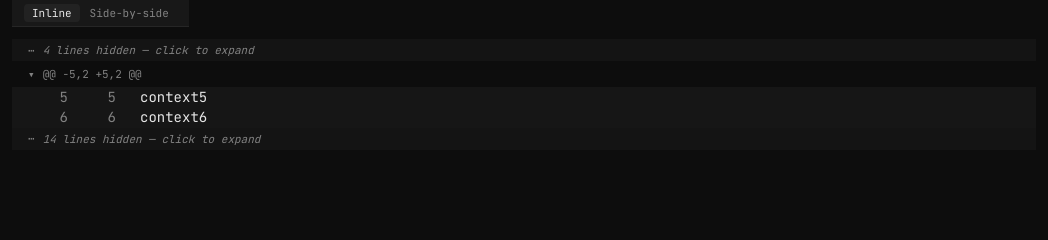
Scenario: diff-view-shortcuts-expand-context: inline gap affordance › 1.T3 — clicking a gap row expands it in place to real source lines; re-click collapses
The image size is (1048, 240).
Expected: the text "4 lines hidden — click to expand" is shown, [43, 43, 254, 57]
Expected: the text "14 lines hidden — click to expand" is shown, [43, 132, 260, 146]
Note: Expand gap-start (lines 1..4) — 4 plain context rows, no +/- markers.
Click the button with aria-label "Expand 4 hidden lines".
click(148, 50)  # box [12, 39, 1036, 61]
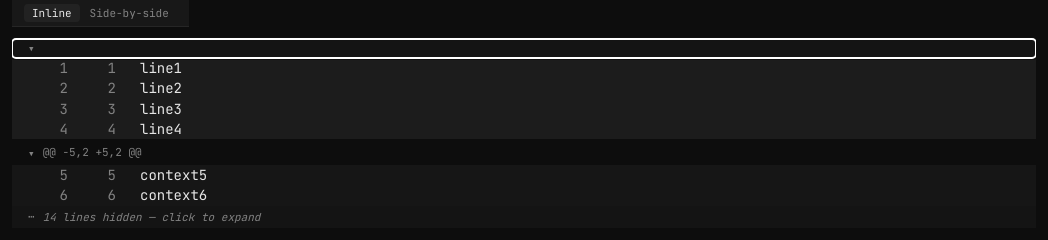
Now the element with class "diff-line--context" shows "line1", box [140, 59, 182, 77]
Now the element with class "diff-line--context" shows "line4", box [140, 120, 182, 138]
Now the element with class "diff-marker" next to "line1" is empty, box [124, 58, 140, 78]
Note: Re-click (now a collapse caret) restores the summary row.
Click the button named "Collapse 4 hidden lines".
click(31, 48)  # box [12, 39, 1036, 58]
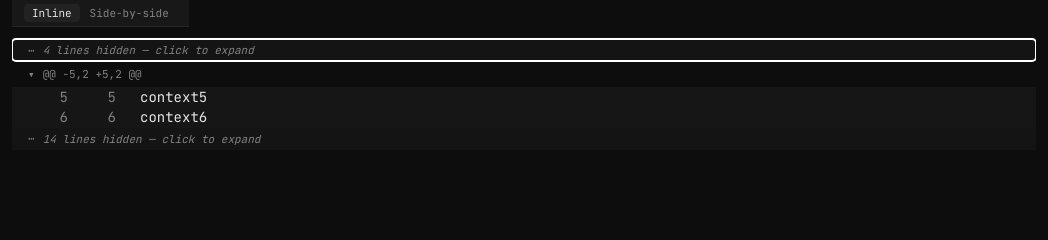
Now the text "4 lines hidden — click to expand" is shown, box [43, 43, 254, 57]
